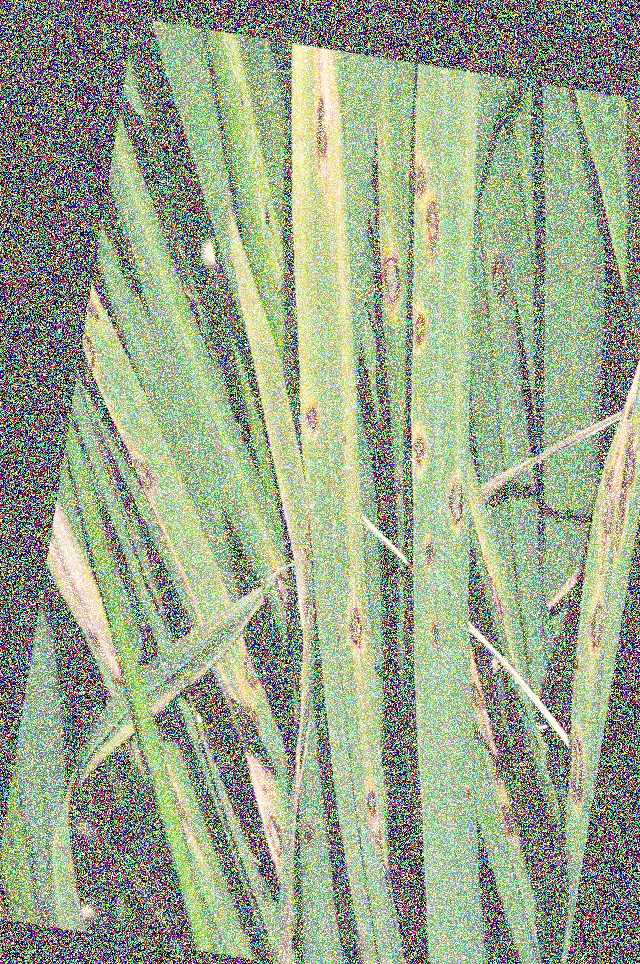Bacterial_Leaf_Blight: (595, 435, 639, 546), (560, 718, 601, 822), (441, 465, 484, 536), (309, 82, 342, 173), (579, 595, 618, 657), (84, 291, 111, 378), (421, 188, 450, 268), (374, 251, 414, 307), (122, 446, 160, 498), (340, 594, 373, 653), (408, 145, 442, 202), (406, 415, 433, 486), (56, 848, 87, 901), (487, 798, 529, 837), (488, 241, 514, 303), (408, 297, 434, 356), (290, 810, 324, 850), (261, 804, 287, 853), (301, 389, 326, 437), (358, 776, 389, 814), (237, 655, 266, 689), (425, 617, 451, 650), (462, 779, 479, 806)
